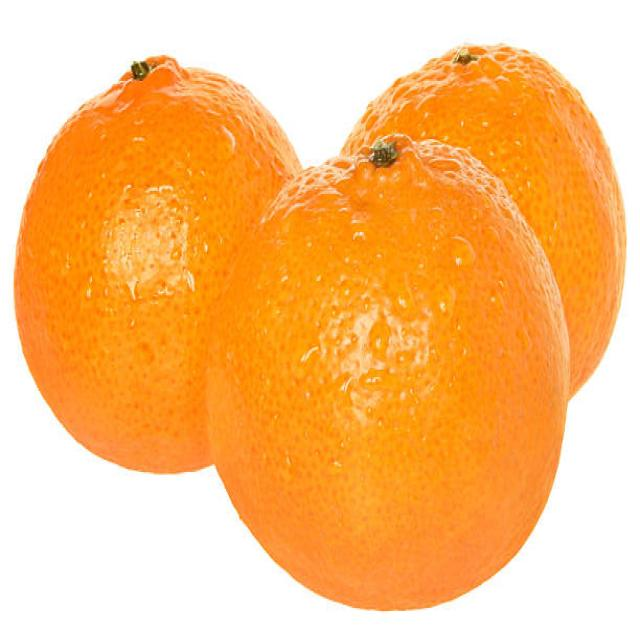Ripe: (207, 126, 571, 613), (12, 34, 224, 482)
